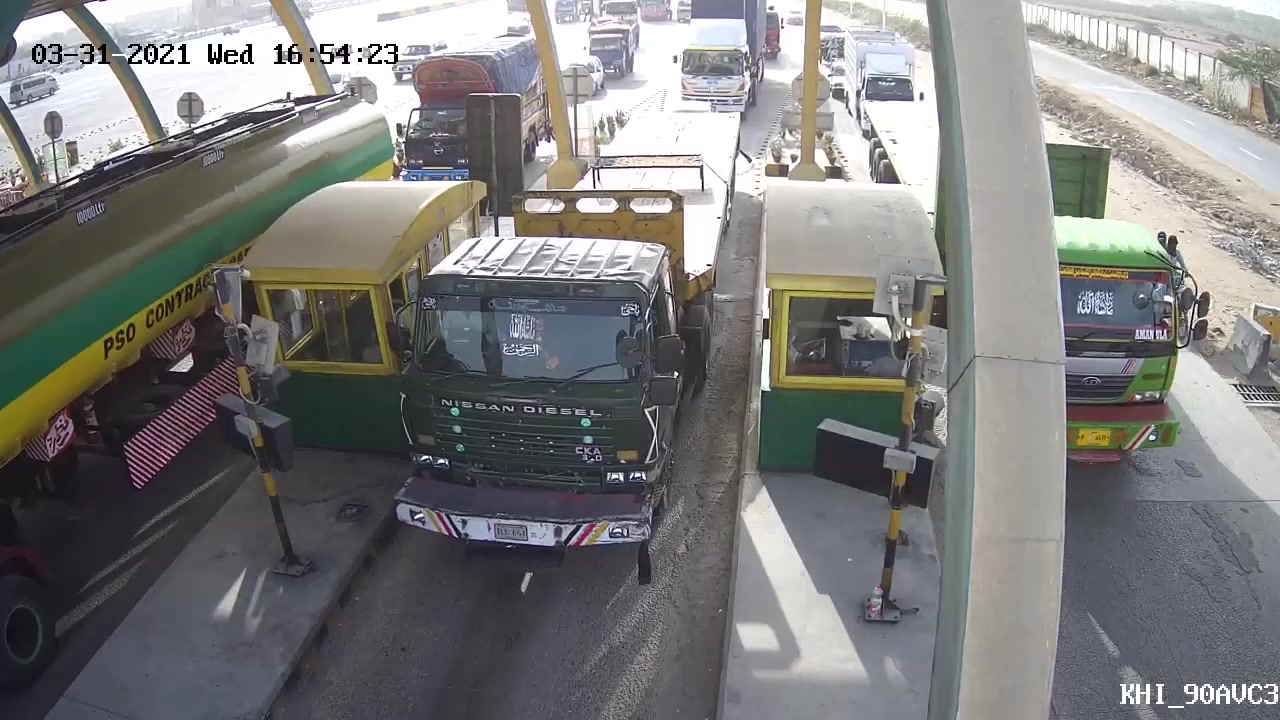F6: (383, 99, 752, 568)
